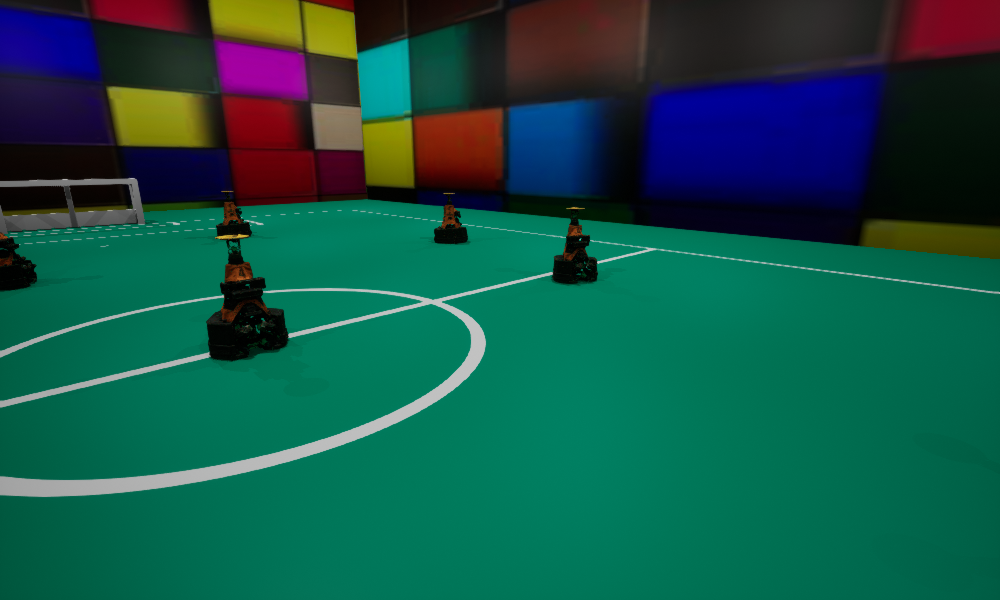o: (206, 234, 288, 360), (552, 207, 597, 283), (0, 232, 36, 290), (434, 193, 467, 243), (216, 191, 251, 236)
